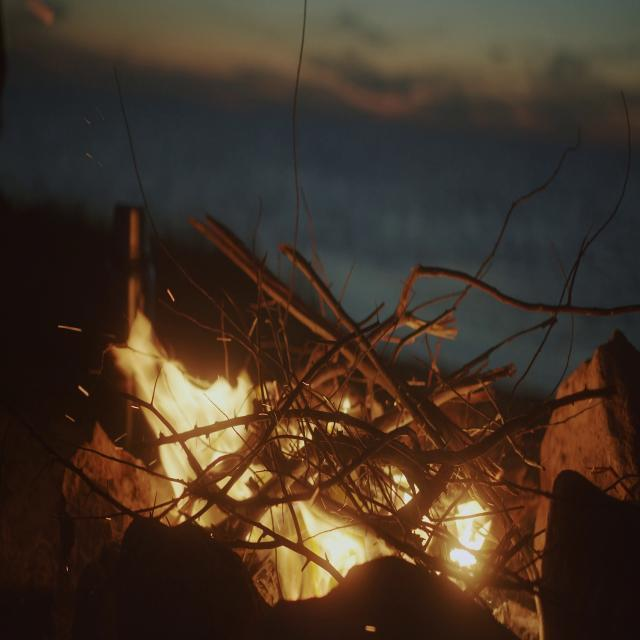Fire: (129, 319, 494, 615)
